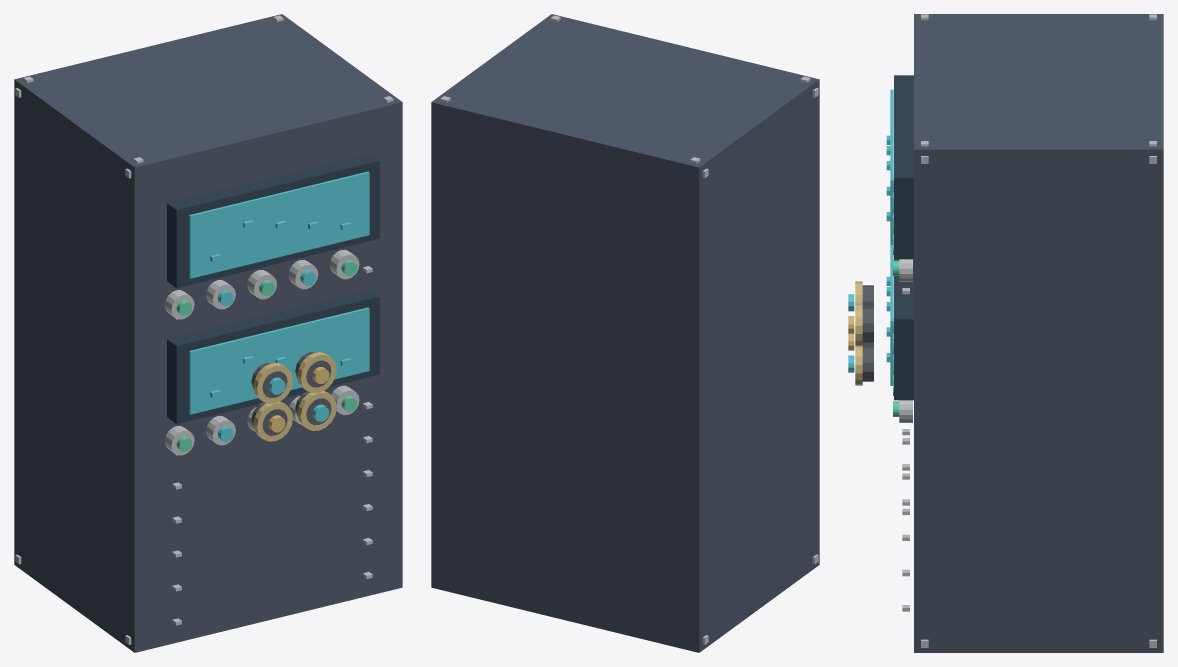
Rendered from 67_L82_EMCTestSequencingPLCRack.glb.
The picture shows the model from 3 angles, left to right: view 1: azimuth 30°, elevation 25°; view 2: azimuth 150°, elevation 25°; view 3: azimuth 270°, elevation 25°; orthographic projection. The views are drawn at different scales.
Visible parts, largest first — view 1: EMCTestSequencingPLCRack_Node_0000, EMCTestSequencingPLCRack_Node_0010, EMCTestSequencingPLCRack_Node_0027, EMCTestSequencingPLCRack_Node_0009, EMCTestSequencingPLCRack_Node_0026, EMCTestSequencingPLCRack_Node_0079, EMCTestSequencingPLCRack_Node_0076, EMCTestSequencingPLCRack_Node_0070, EMCTestSequencingPLCRack_Node_0073; view 2: EMCTestSequencingPLCRack_Node_0000; view 3: EMCTestSequencingPLCRack_Node_0000, EMCTestSequencingPLCRack_Node_0009, EMCTestSequencingPLCRack_Node_0026, EMCTestSequencingPLCRack_Node_0010, EMCTestSequencingPLCRack_Node_0027.
Part boxes in pixels (x1,y1,x2,y2): EMCTestSequencingPLCRack_Node_0000: [14, 14, 402, 652]; EMCTestSequencingPLCRack_Node_0010: [189, 171, 369, 278]; EMCTestSequencingPLCRack_Node_0027: [189, 307, 369, 414]; EMCTestSequencingPLCRack_Node_0009: [167, 153, 379, 288]; EMCTestSequencingPLCRack_Node_0026: [167, 289, 379, 424]; EMCTestSequencingPLCRack_Node_0079: [297, 352, 336, 393]; EMCTestSequencingPLCRack_Node_0076: [253, 363, 292, 403]; EMCTestSequencingPLCRack_Node_0070: [253, 401, 292, 441]; EMCTestSequencingPLCRack_Node_0073: [297, 391, 336, 430]; EMCTestSequencingPLCRack_Node_0000: [431, 14, 819, 652]; EMCTestSequencingPLCRack_Node_0000: [914, 14, 1163, 652]; EMCTestSequencingPLCRack_Node_0009: [894, 75, 913, 259]; EMCTestSequencingPLCRack_Node_0026: [894, 259, 913, 400]; EMCTestSequencingPLCRack_Node_0010: [890, 89, 893, 244]; EMCTestSequencingPLCRack_Node_0027: [890, 245, 893, 385].
Size of the model in its own units: 1.06 by 1.82 by 1.02.
